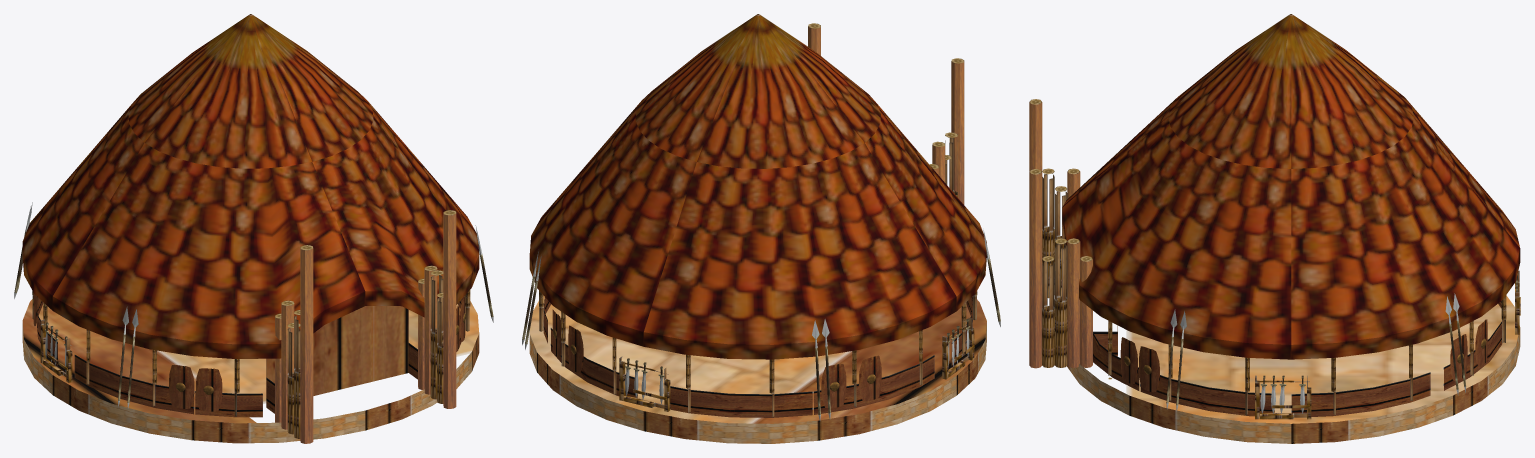
File: temple.dae
The picture shows the model from 3 angles, left to right: view 1: azimuth 30°, elevation 25°; view 2: azimuth 150°, elevation 25°; view 3: azimuth 270°, elevation 25°; orthographic projection.
Parts seen in each view (by area): view 1: temple; view 2: temple; view 3: temple.
Part boxes in pixels (x1,y1,x2,y2): temple: [14, 14, 493, 443]; temple: [522, 14, 1000, 443]; temple: [1029, 14, 1520, 443].
Bounding box in the file's own units: 24.31 × 25.86 × 19.33.
